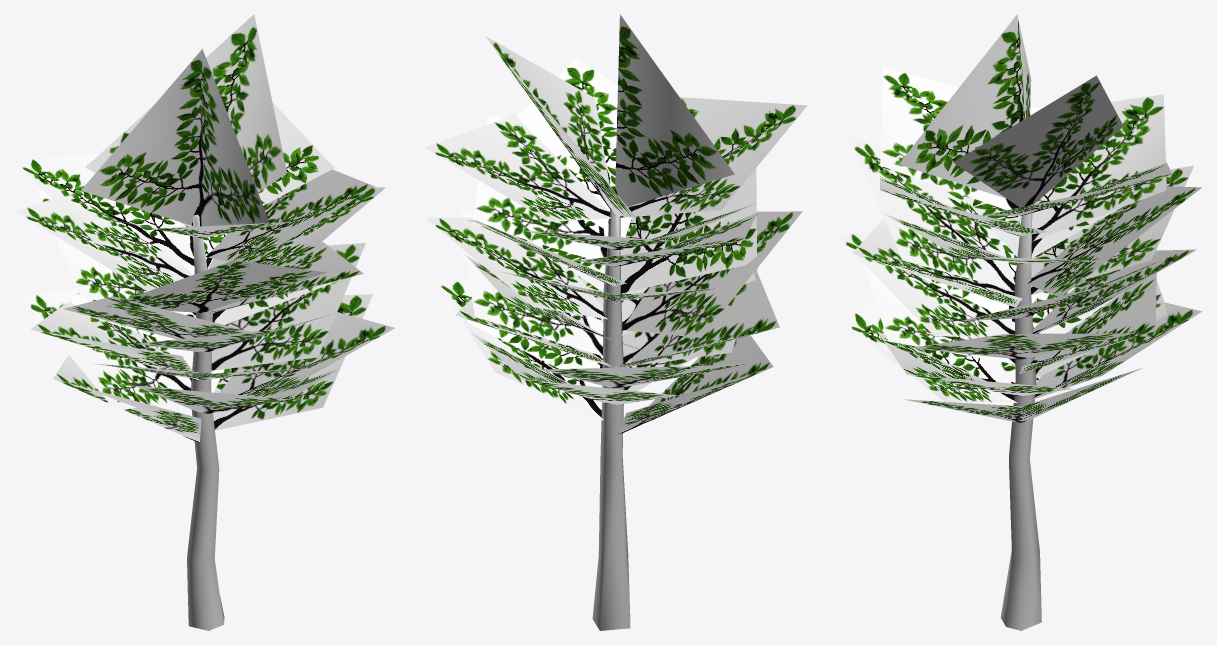
File: tree3.obj
The picture shows the model from 3 angles, left to right: view 1: azimuth 30°, elevation 25°; view 2: azimuth 150°, elevation 25°; view 3: azimuth 270°, elevation 25°; orthographic projection. The views are drawn at different scales.
Parts seen in each view (by area): view 1: unnamed_object1_tree5, unnamed_object1_stamm; view 2: unnamed_object1_tree5, unnamed_object1_stamm; view 3: unnamed_object1_tree5, unnamed_object1_stamm.
Part boxes in pixels (x1=…): unnamed_object1_tree5: x1=14, y1=14, x2=394, y2=442; unnamed_object1_stamm: x1=187, y1=214, x2=224, y2=630; unnamed_object1_tree5: x1=424, y1=14, x2=807, y2=433; unnamed_object1_stamm: x1=592, y1=209, x2=630, y2=630; unnamed_object1_tree5: x1=837, y1=14, x2=1201, y2=422; unnamed_object1_stamm: x1=1000, y1=204, x2=1041, y2=630.
Size of the model in its own units: 57.79 by 95.04 by 52.13.
1 material, 1 textured.
